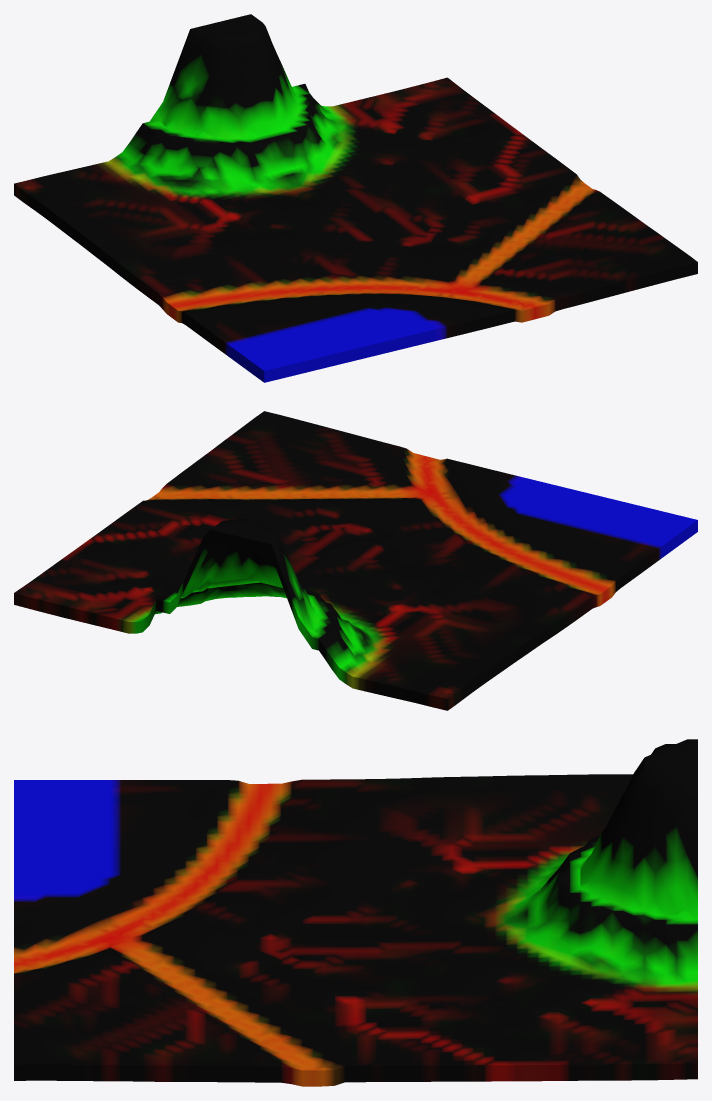
Rendered from Terrain_02_02.fbx.
The picture shows the model from 3 angles, top to bottom: view 1: azimuth 30°, elevation 25°; view 2: azimuth 150°, elevation 25°; view 3: azimuth 270°, elevation 25°; orthographic projection. The views are drawn at different scales.
Parts seen in each view (by area): view 1: Terrain_02_02_LOD0; view 2: Terrain_02_02_LOD0; view 3: Terrain_02_02_LOD0.
Boxes of the visible parts, box(x1,y1,x2,y2) form: Terrain_02_02_LOD0: box(14, 14, 697, 382); Terrain_02_02_LOD0: box(14, 411, 697, 710); Terrain_02_02_LOD0: box(14, 739, 697, 1086).
Size of what is drawn, in the model's own units: 384 by 110 by 384.
